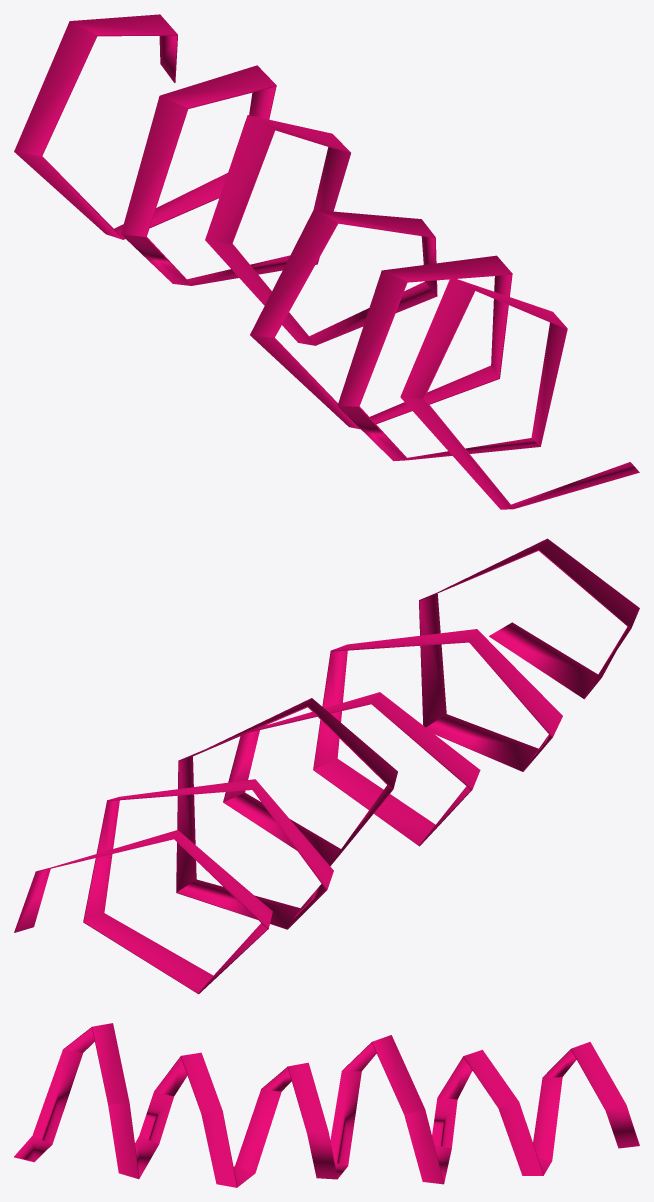
The model's file is Barbwire_01_Lod2.fbx.
The picture shows the model from 3 angles, top to bottom: view 1: azimuth 30°, elevation 25°; view 2: azimuth 150°, elevation 25°; view 3: azimuth 270°, elevation 25°; orthographic projection. The views are drawn at different scales.
Parts seen in each view (by area): view 1: Barbwire_01_Lod2; view 2: Barbwire_01_Lod2; view 3: Barbwire_01_Lod2.
Boxes of the visible parts, x1,y1,x2,y2 form: Barbwire_01_Lod2: (14, 14, 639, 509); Barbwire_01_Lod2: (14, 538, 639, 994); Barbwire_01_Lod2: (14, 1023, 639, 1187).
Size of the model in its own units: 120 by 118 by 455.
